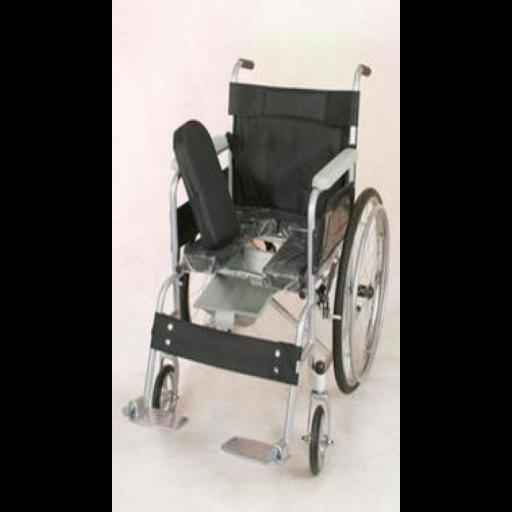cadeira_de_rodas: (126, 54, 385, 480)
